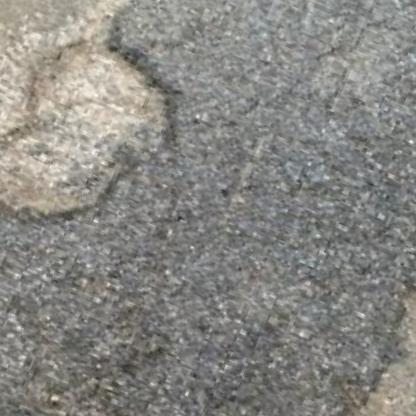pothole: (0, 5, 210, 267)
